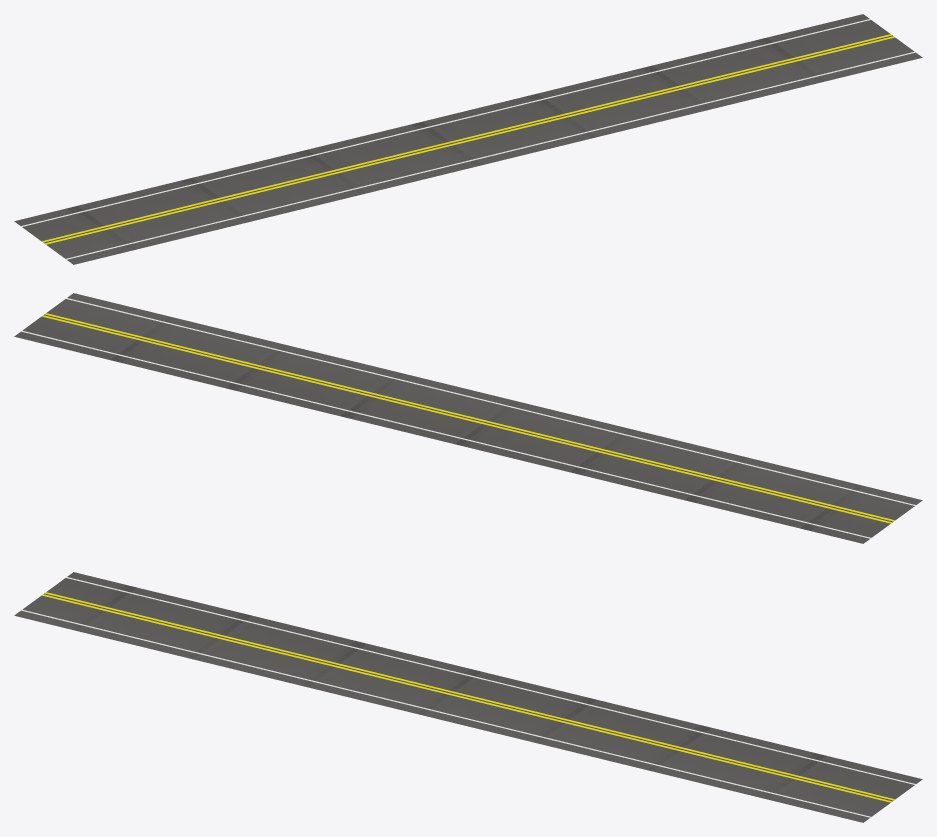
File: Road2.fbx
3 renders of one model, top to bottom at view 1: azimuth 30°, elevation 25°; view 2: azimuth 150°, elevation 25°; view 3: azimuth 330°, elevation 25°, orthographic.
Parts seen in each view (by area): view 1: SM_Road_03.mo; view 2: SM_Road_03.mo; view 3: SM_Road_03.mo.
Part boxes in pixels (bbox=[...]): SM_Road_03.mo: bbox=[14, 14, 922, 264]; SM_Road_03.mo: bbox=[14, 293, 922, 543]; SM_Road_03.mo: bbox=[14, 572, 922, 822].
Size of the model in its own units: 5560 by 1 by 676.
